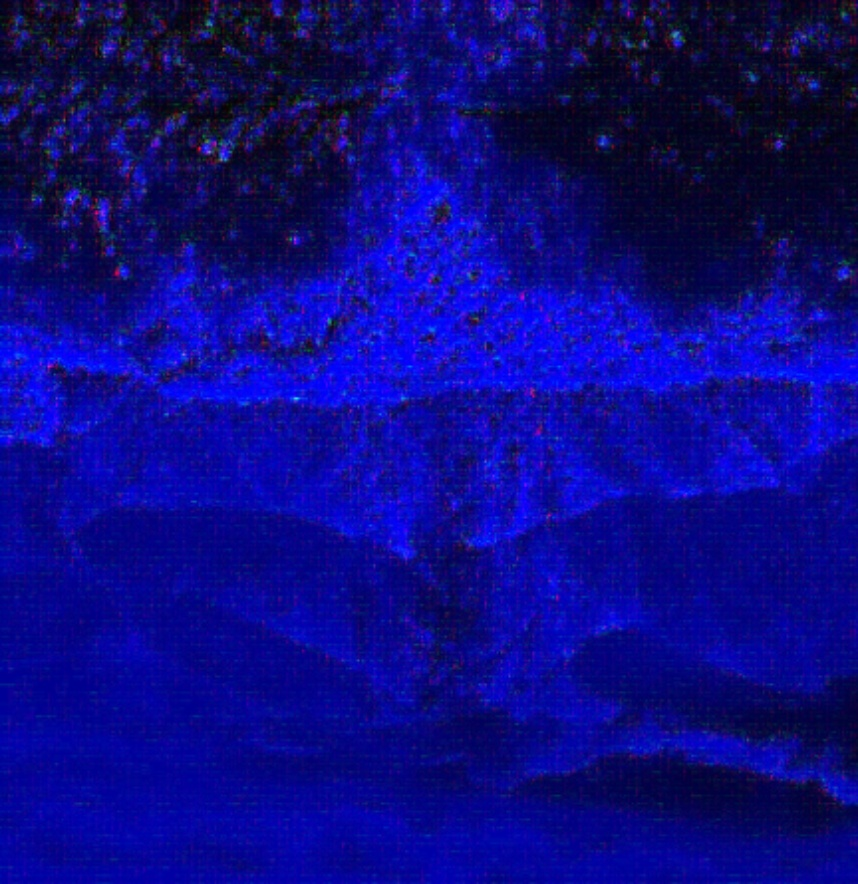rip_current: (326, 22, 605, 728)
